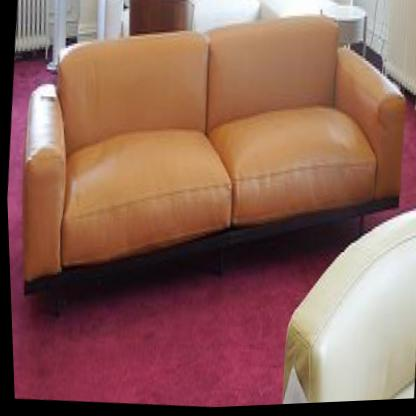Sofa: (3, 0, 416, 345)
